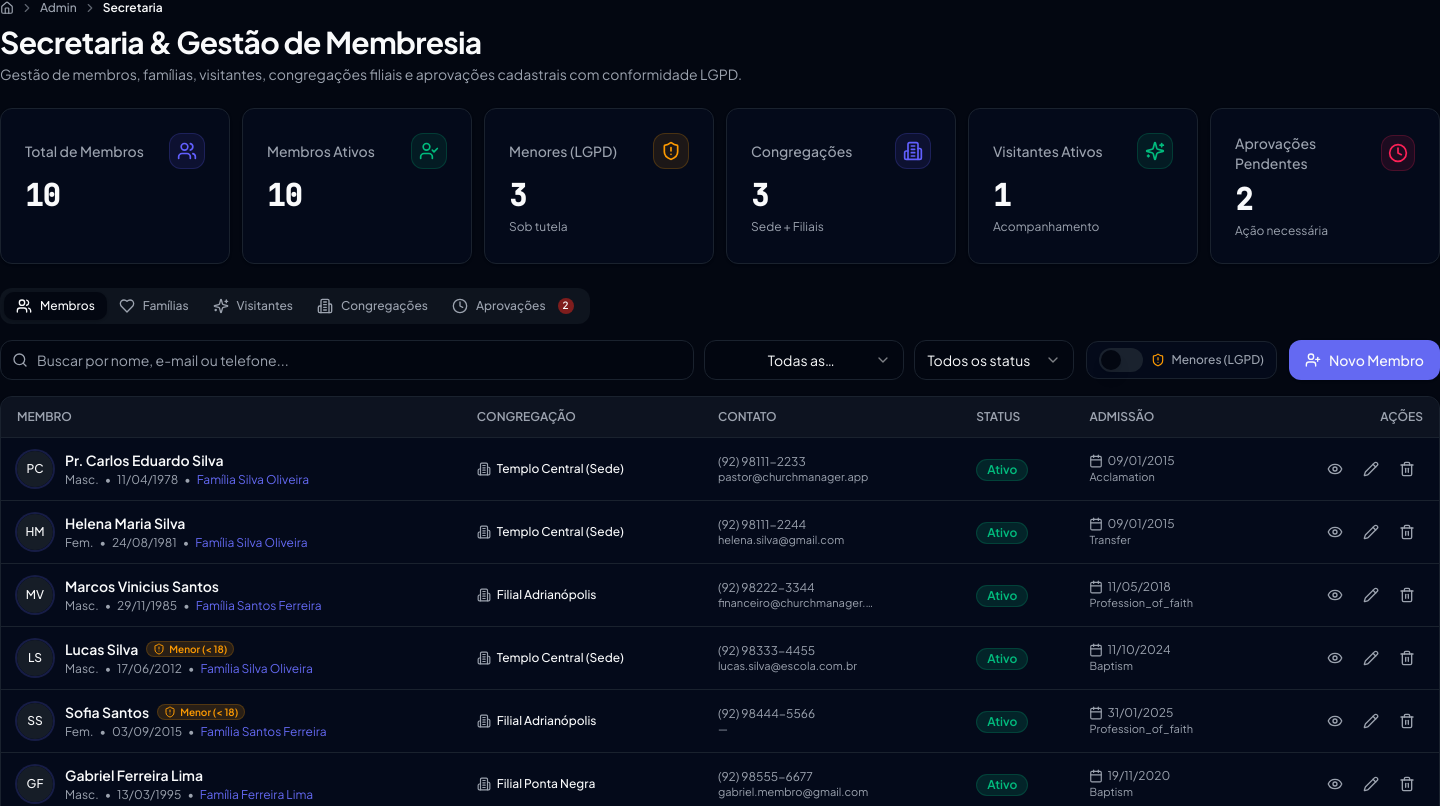
Etapa 04 — Secretaria & Gestão de Membresia › deve exibir o comparativo antes/depois na aba de Aprovações Cadastrais e aprovar alteração
Expected: the text "Total de Membros" is shown, x1=25 y1=141 x2=144 y2=161
# Clica na aba Aprovações
Click the tab "Aprovações 2".
click(513, 306)  # box x1=440 y1=292 x2=586 y2=320
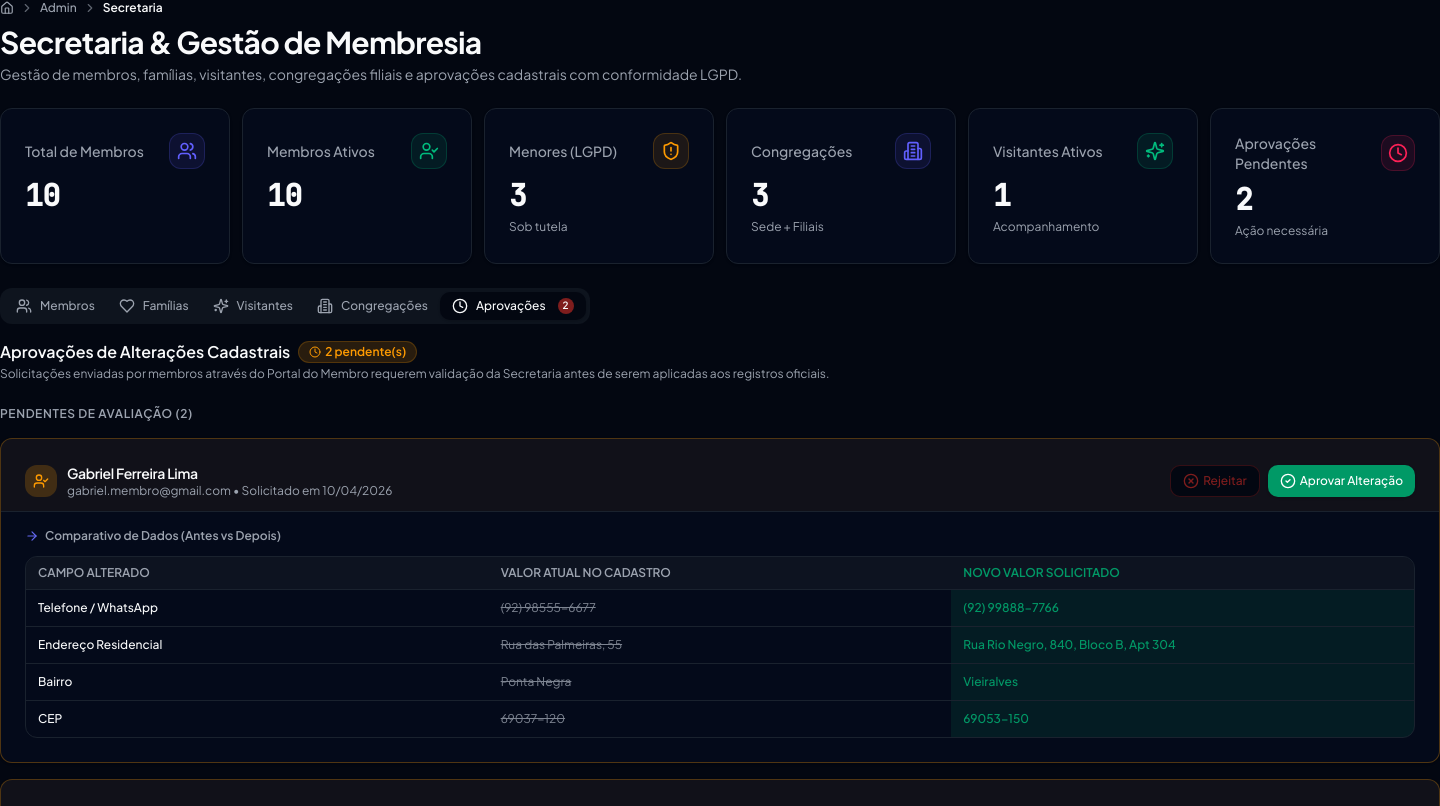
Expected: the heading "Aprovações de Alterações Cadastrais" is shown, x1=0 y1=340 x2=290 y2=364
Expected: the text "Comparativo de Dados (Antes vs Depois)" is shown 2 times
# Clica no botão "Aprovar Alteração"
Click the button "Aprovar Alteração" in the row of "10/04/2026".
click(1341, 481)  # box x1=1268 y1=465 x2=1415 y2=497
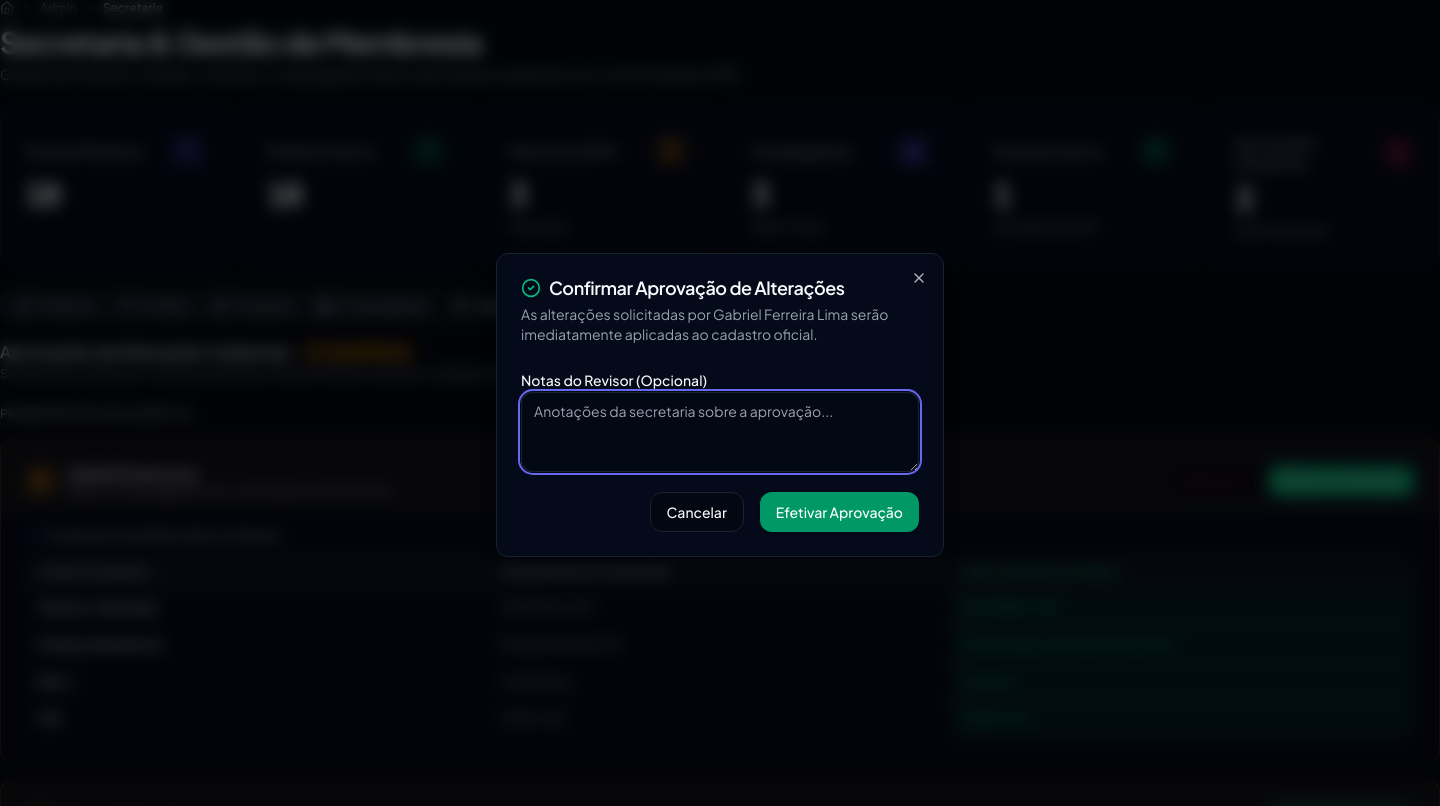
Expected: the heading "Confirmar Aprovação de Alterações" is shown, x1=521 y1=276 x2=845 y2=299
Click the button "Efetivar Aprovação".
click(839, 512)  # box x1=760 y1=492 x2=919 y2=532
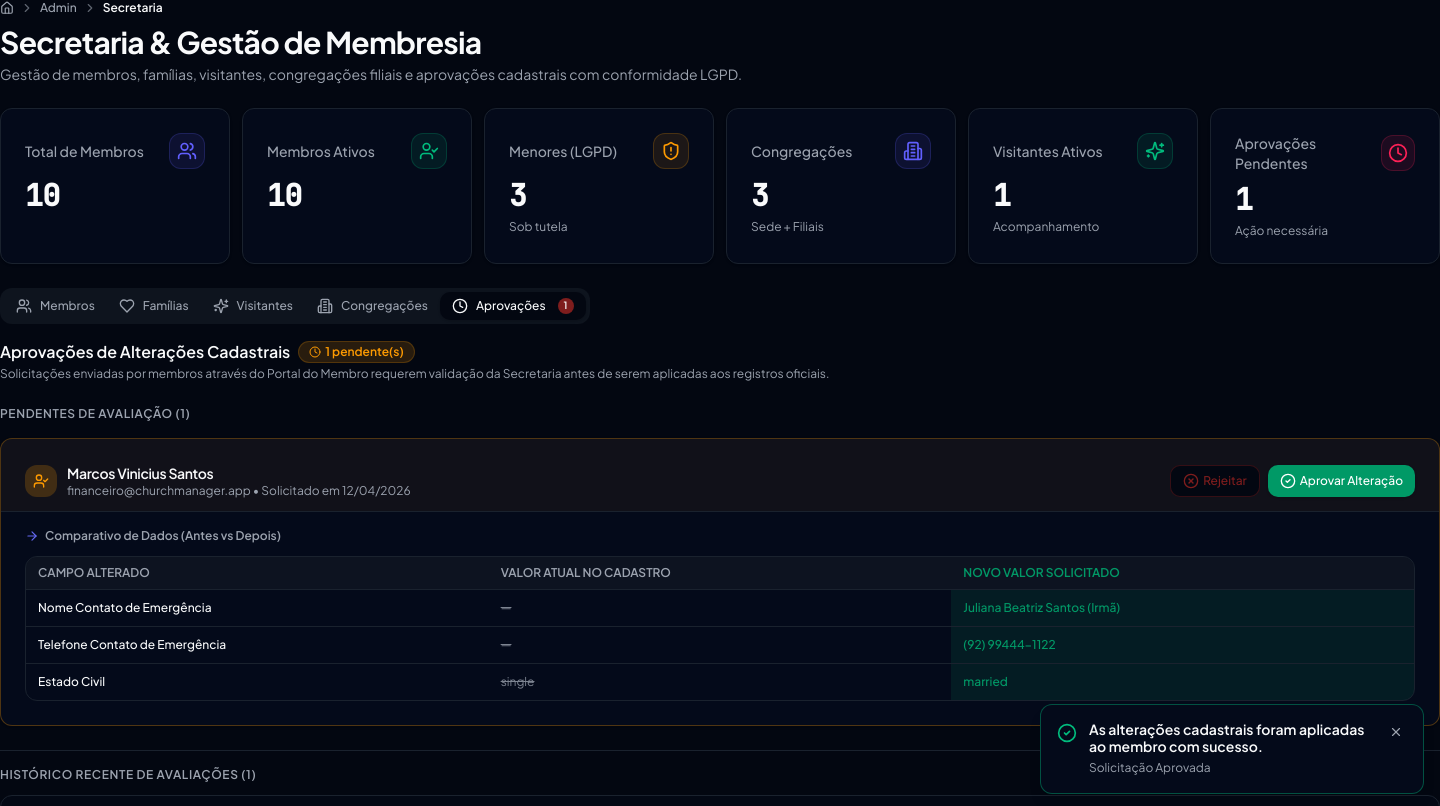
Expected: the text "Solicitação Aprovada" is shown, x1=1089 y1=760 x2=1211 y2=774
